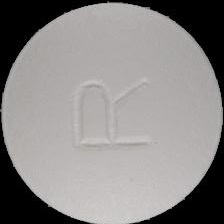68151-3118: (0, 0, 224, 224)
